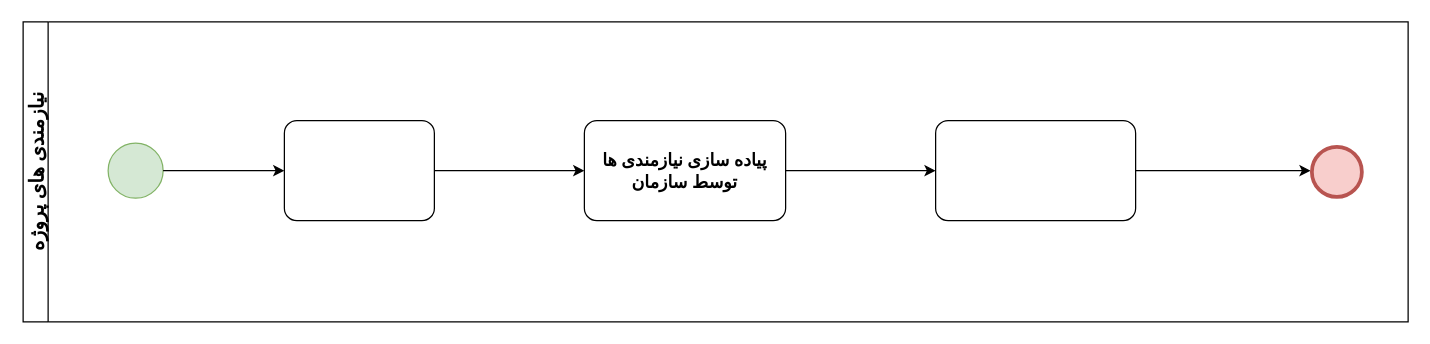
The diagram is 1430 pixels wide and 344 high, and some of its shapes have lost their labels. The box of each missing label's shape, as (x1, y1, x2, y2) in pixels:
اطلاع رسانی به فروشنده ها: (934, 119, 1136, 221)
مشخص شدن شرایط و قوانین همکاری: (283, 119, 434, 221)
